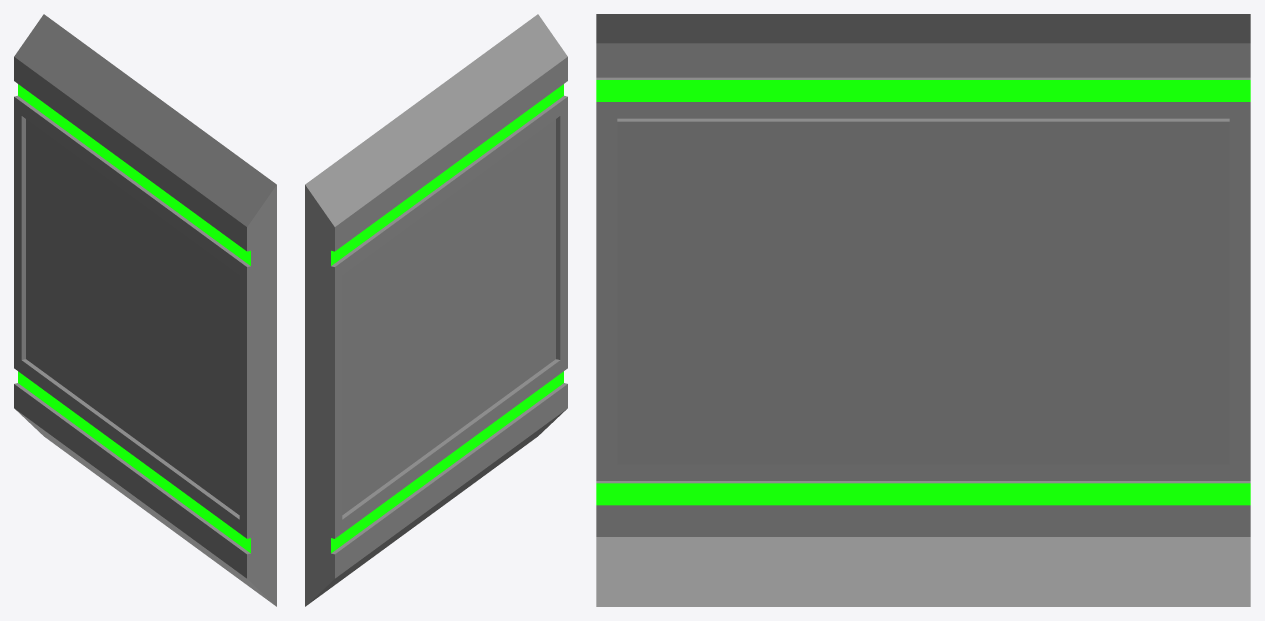
The model's file is Wall_06.FBX.
The picture shows the model from 3 angles, left to right: view 1: azimuth 30°, elevation 25°; view 2: azimuth 150°, elevation 25°; view 3: azimuth 270°, elevation 25°; orthographic projection. The views are drawn at different scales.
Parts seen in each view (by area): view 1: Wall_06_LOD0; view 2: Wall_06_LOD0; view 3: Wall_06_LOD0.
Part boxes in pixels (box(x1,y1,x2,y2)): Wall_06_LOD0: box(14, 14, 276, 606); Wall_06_LOD0: box(305, 14, 567, 606); Wall_06_LOD0: box(596, 14, 1250, 606).
Size of what is drawn, in the model's own units: 13.27 by 180 by 180.
